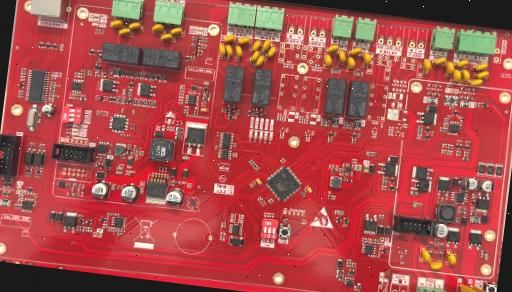var: (455, 283, 479, 292), (465, 284, 491, 292), (445, 250, 457, 266), (419, 248, 432, 262), (454, 58, 468, 70), (458, 68, 470, 82), (474, 69, 489, 80), (472, 62, 488, 72), (467, 77, 483, 87), (428, 260, 444, 270), (451, 68, 462, 82), (266, 44, 276, 59), (361, 52, 372, 65), (110, 19, 124, 29), (151, 23, 165, 33), (128, 22, 142, 32), (170, 26, 184, 36), (118, 27, 132, 37), (326, 44, 340, 54), (322, 54, 332, 68), (346, 56, 356, 70), (432, 56, 446, 66), (444, 62, 454, 76), (224, 44, 233, 59), (250, 50, 260, 63), (250, 39, 260, 52), (262, 39, 272, 52), (422, 59, 432, 72), (254, 55, 264, 68), (160, 33, 174, 42), (222, 34, 236, 43), (348, 47, 362, 56), (234, 45, 243, 59), (238, 36, 250, 46), (218, 44, 226, 57), (338, 50, 346, 63)
